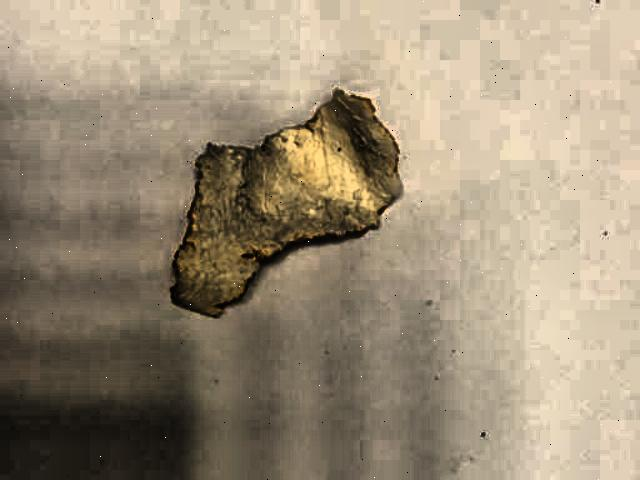Almennt: (132, 74, 432, 336)
